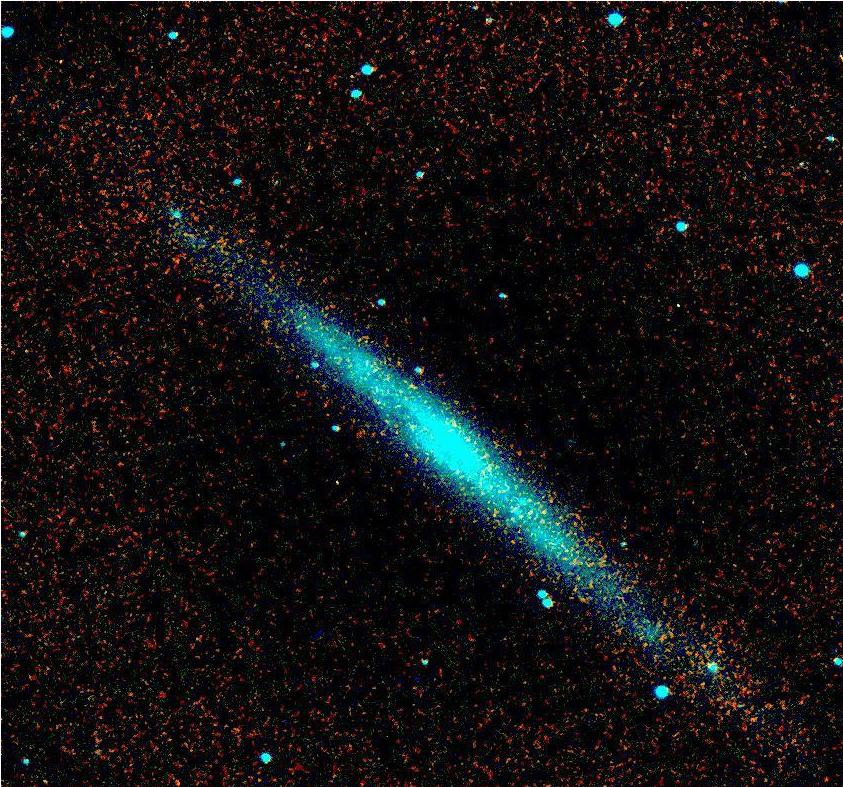star: (318, 464, 348, 494)
